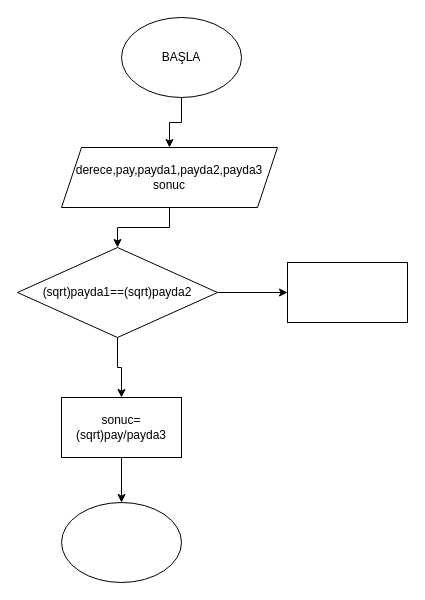
Image size: 425x600. Some labels were removed from this diagram. The box of each missing label's shape, as (x1, y1, x2, y2) in pixels:
BİTİR: (60, 502, 182, 582)
payda3=payda1-payda2: (286, 262, 408, 322)
